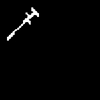double_crochet: (7, 8, 38, 39)
